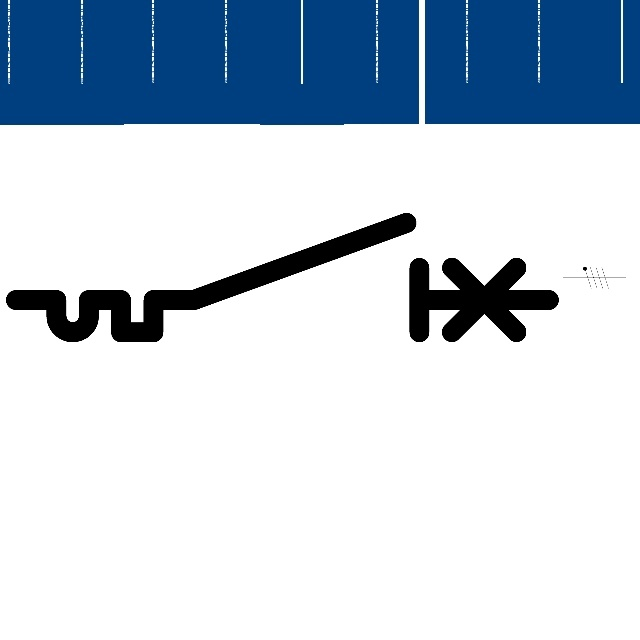interruptor_termomagnetico: (2, 209, 563, 346)
